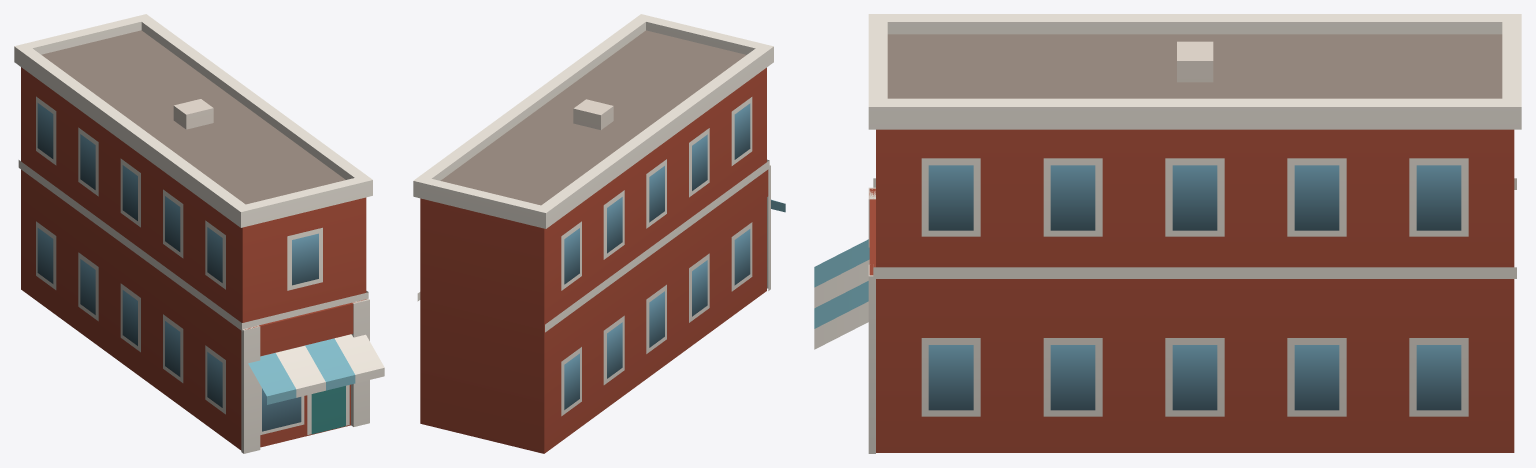
File: boylston_s22_far.glb
The picture shows the model from 3 angles, left to right: view 1: azimuth 30°, elevation 25°; view 2: azimuth 150°, elevation 25°; view 3: azimuth 270°, elevation 25°; orthographic projection. The views are drawn at different scales.
Parts seen in each view (by area): view 1: boylston_s22_far; view 2: boylston_s22_far; view 3: boylston_s22_far.
Part boxes in pixels (bbox=[...]): boylston_s22_far: bbox=[14, 14, 384, 453]; boylston_s22_far: bbox=[413, 14, 785, 453]; boylston_s22_far: bbox=[814, 14, 1521, 453].
Size of the model in its own units: 4.82 by 8.67 by 15.51.
Materials: 1 (1 with a texture image).
